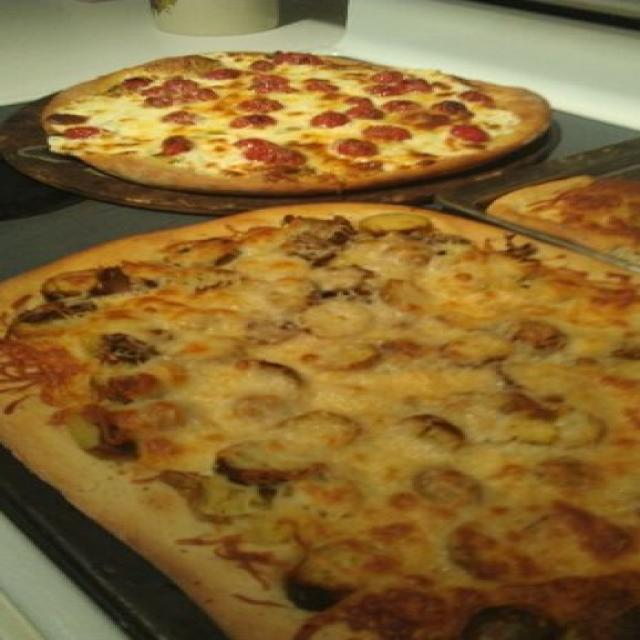Mushrooms: (62, 268, 129, 309), (102, 334, 168, 363), (284, 215, 354, 242), (404, 420, 465, 447), (294, 246, 350, 266)
Pizza: (0, 202, 640, 640), (49, 52, 549, 199), (487, 180, 640, 274)
Tomato: (237, 138, 305, 165), (366, 73, 424, 96), (146, 83, 216, 101), (252, 53, 318, 69), (346, 99, 385, 118), (258, 76, 297, 92), (365, 126, 409, 140), (161, 137, 191, 156), (338, 141, 376, 156), (313, 112, 345, 129), (453, 126, 487, 141), (232, 117, 278, 128), (240, 101, 286, 111), (461, 94, 497, 106), (66, 128, 108, 138), (207, 69, 243, 80), (304, 78, 335, 90), (164, 113, 194, 124), (124, 80, 148, 90), (388, 104, 421, 111)
